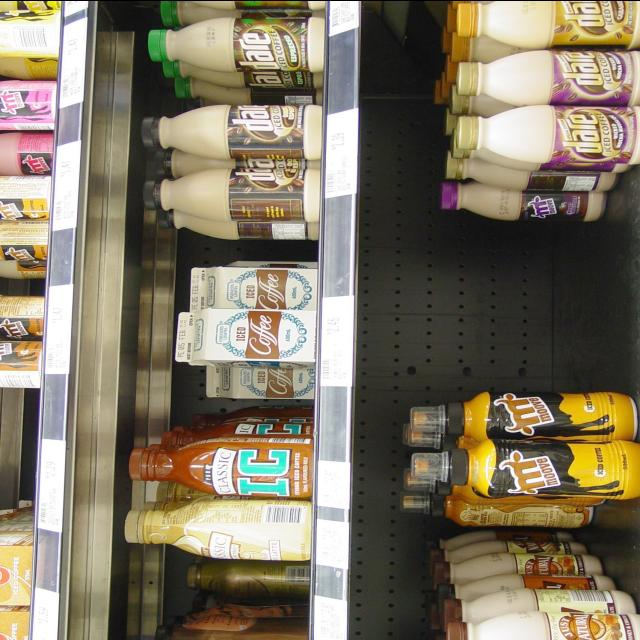empty_space: (402, 226, 631, 387), (0, 390, 36, 504)
